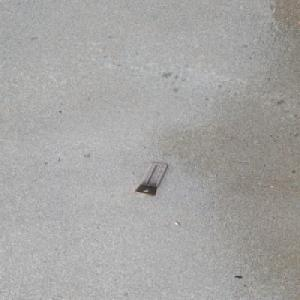MetalPart: (134, 161, 169, 196)
